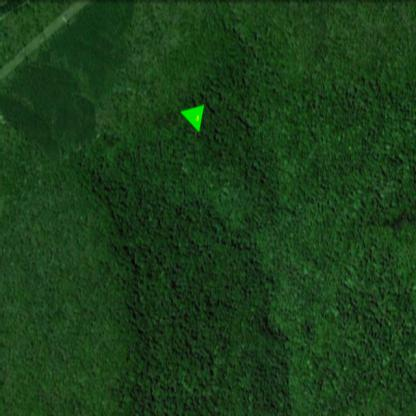triangle: (179, 102, 208, 134)
